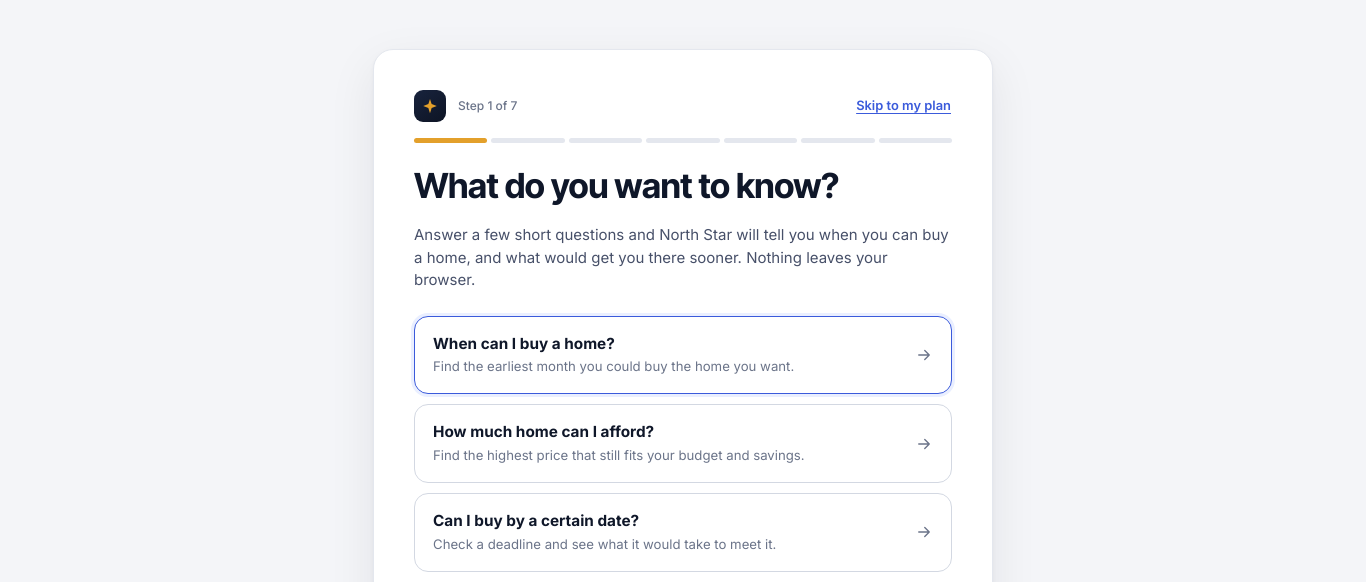
Test case: advanced pages › supports saving, opening and duplicating a scenario
The width and height of the screenshot is (1366, 582).
Click the button "Skip to my plan" at (904, 106), box top-left (855, 95), bottom-right (952, 116)
(page scrolled)
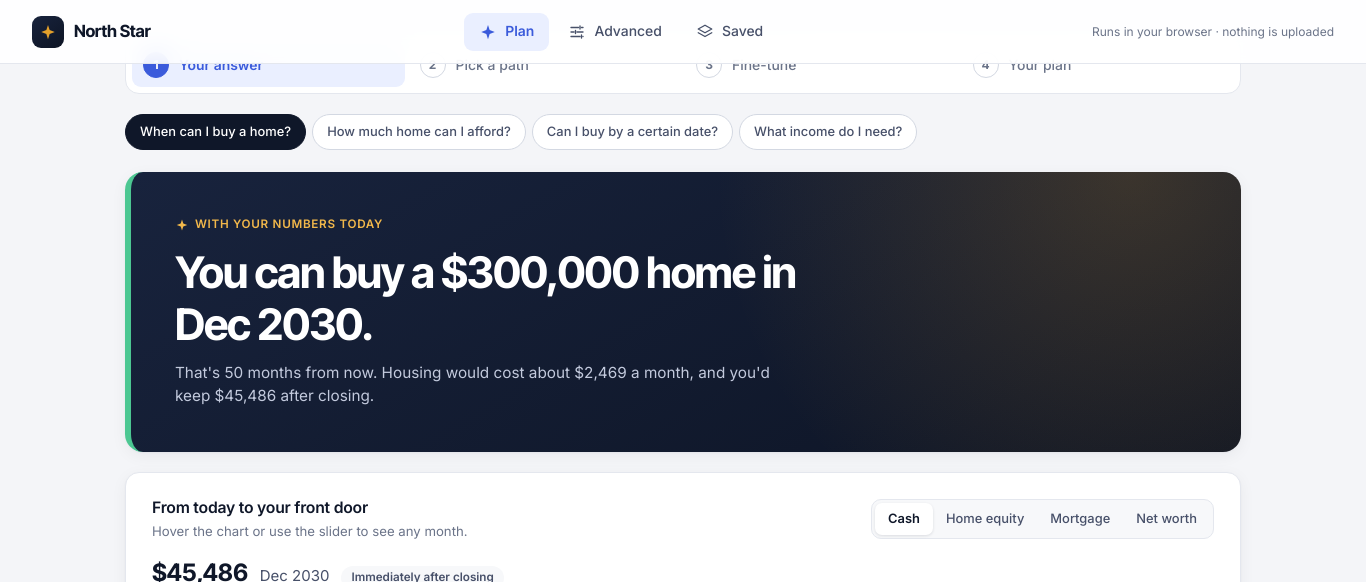
Click the button "Saved" at (730, 32), box top-left (681, 12), bottom-right (778, 50)
(page scrolled)
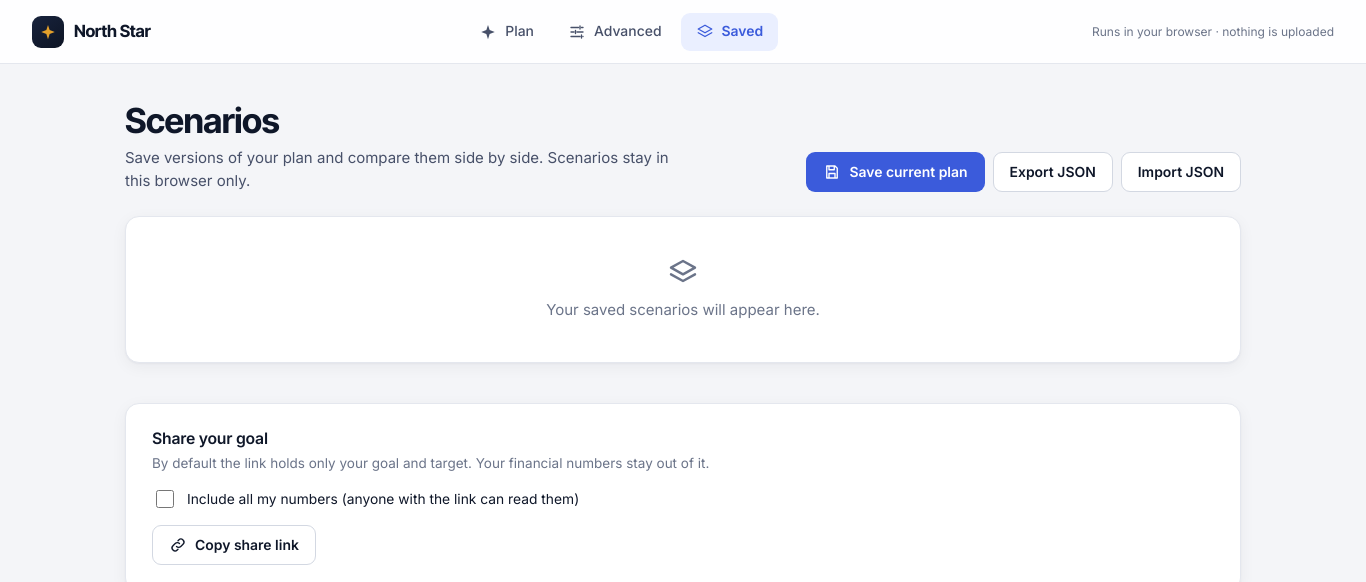
Click the button "Save current plan" at (896, 172), box top-left (806, 152), bottom-right (985, 192)
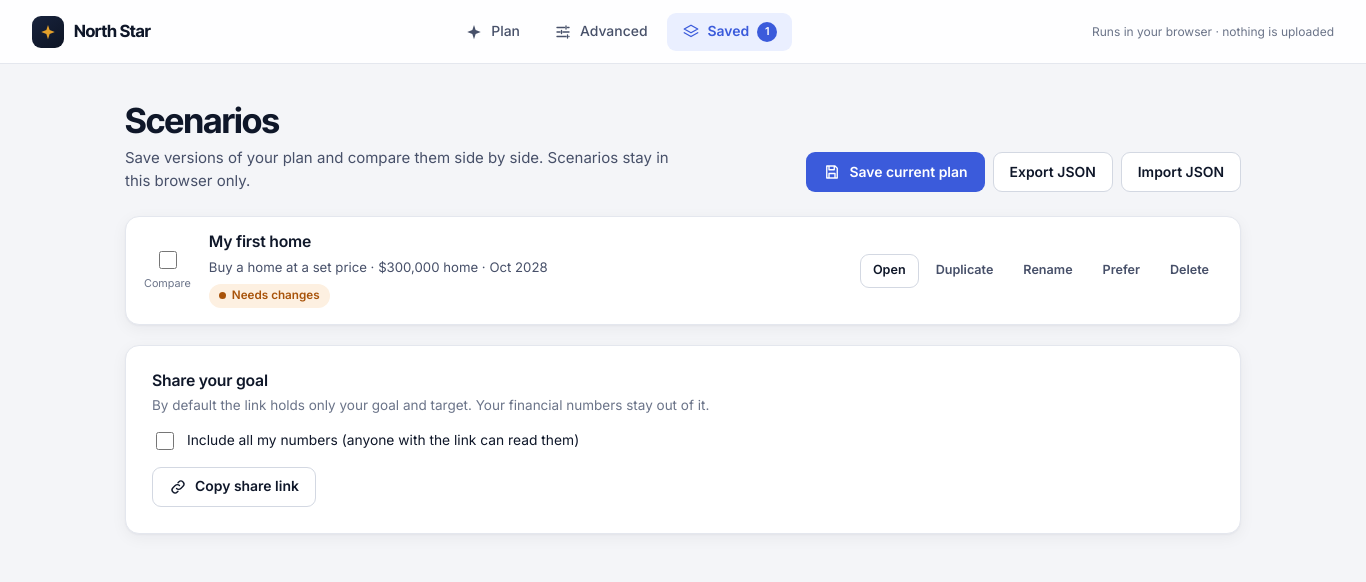
expect the heading "My first home" is shown: met, box top-left (209, 233), bottom-right (311, 252)
Click the button "Duplicate" at (964, 270), box top-left (923, 254), bottom-right (1006, 288)
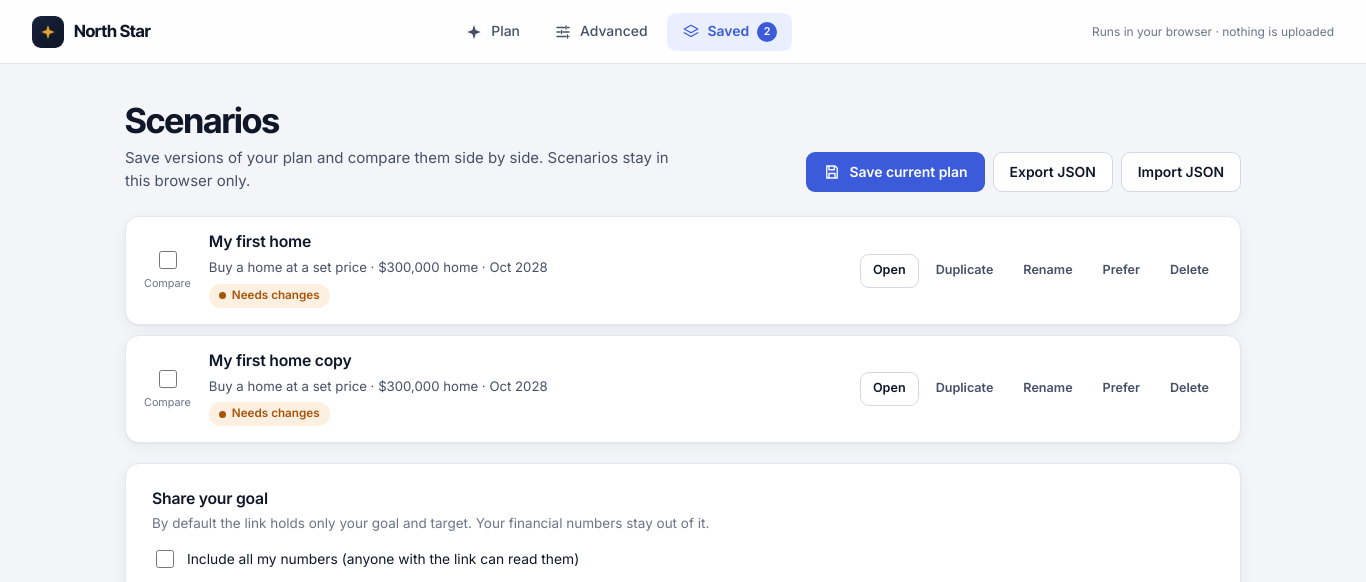
expect the heading "My first home copy" is shown: met, box top-left (209, 352), bottom-right (352, 370)
